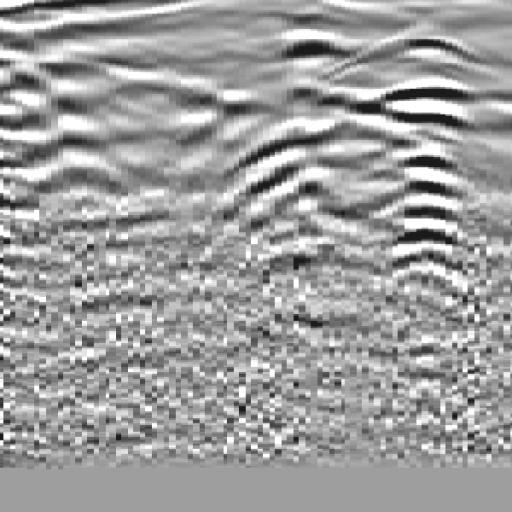metalic: (360, 14, 504, 322)
